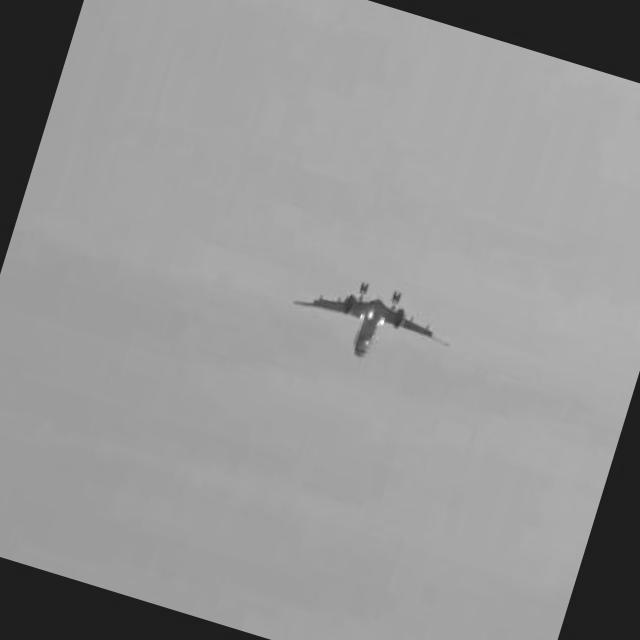aeroplane: (283, 265, 458, 383)
